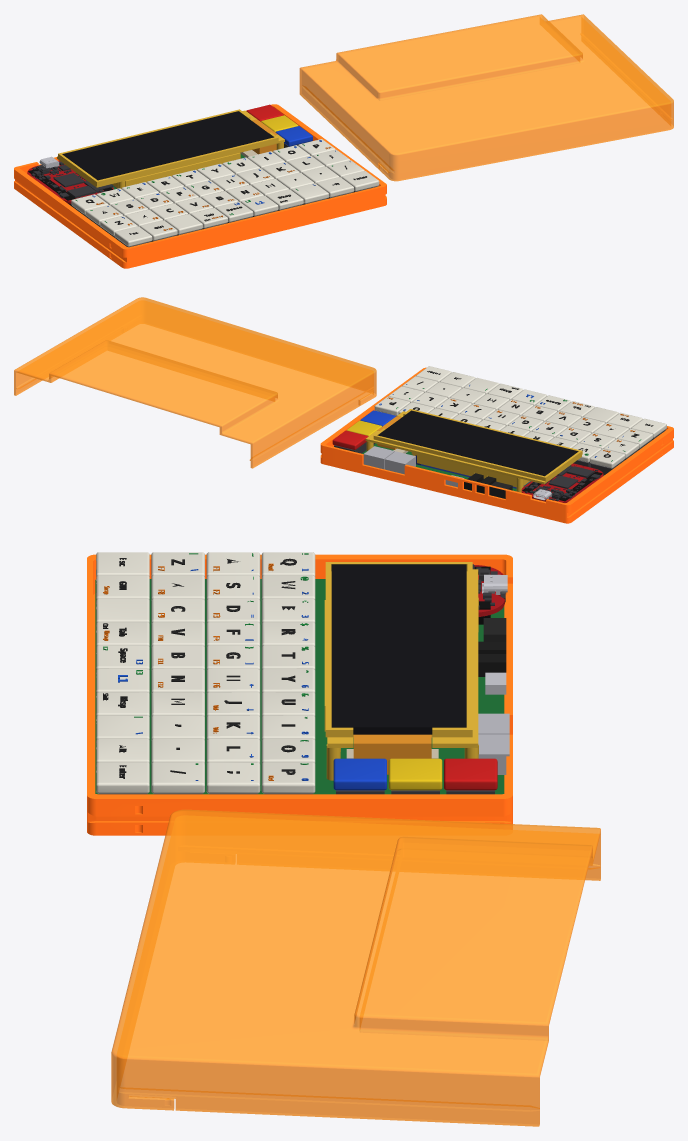
Rendered from beside_tangerine.glb.
3 views of the same model, one above another, from view 1: azimuth 30°, elevation 25°; view 2: azimuth 150°, elevation 25°; view 3: azimuth 270°, elevation 25° (orthographic). The views are drawn at different scales.
Visible parts, largest first — view 1: Lid, Internals, Tray; view 2: Lid, Internals, Tray; view 3: Lid, Internals, Tray.
Part boxes in pixels (x1,y1,x2,y2): Lid: (299, 14, 673, 181); Internals: (27, 104, 379, 247); Tray: (14, 104, 386, 268); Lid: (14, 297, 376, 468); Internals: (332, 366, 666, 502); Tray: (320, 367, 673, 523); Lid: (111, 809, 600, 1126); Internals: (95, 552, 509, 794); Tray: (87, 554, 512, 835).
Size of the model in its own units: 0.3903 by 0.0227 by 0.1583.
